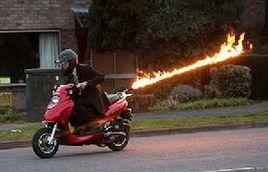fire: (133, 31, 247, 88)
